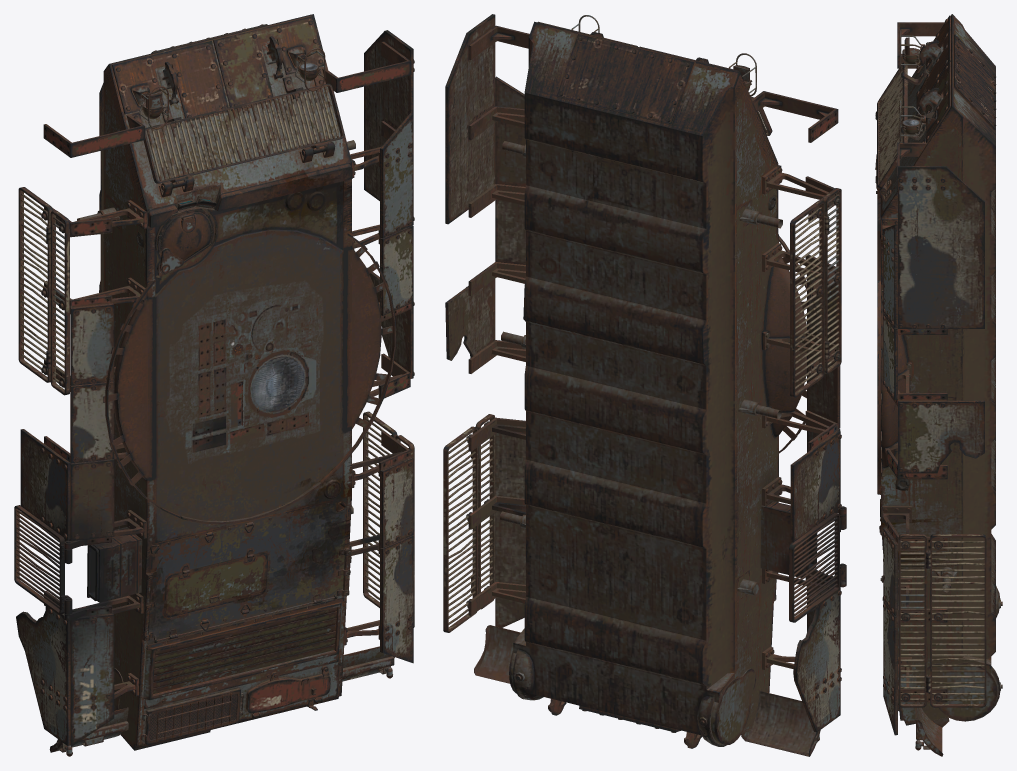
The model's file is Hull_02.glb.
3 views of the same model, side by side, from view 1: azimuth 30°, elevation 25°; view 2: azimuth 150°, elevation 25°; view 3: azimuth 270°, elevation 25° (orthographic). The views are drawn at different scales.
Visible parts, largest first — view 1: set_0_group_0, set_0_group_1; view 2: set_0_group_0; view 3: set_0_group_0.
Boxes of the visible parts, x1,y1,x2,y2 form: set_0_group_0: [14, 14, 414, 756]; set_0_group_1: [150, 693, 237, 740]; set_0_group_0: [443, 14, 846, 756]; set_0_group_0: [875, 14, 1002, 756].
Bounding box in the file's own units: 3.53 × 6.36 × 1.18.
Materials: 3 (3 with a texture image).
